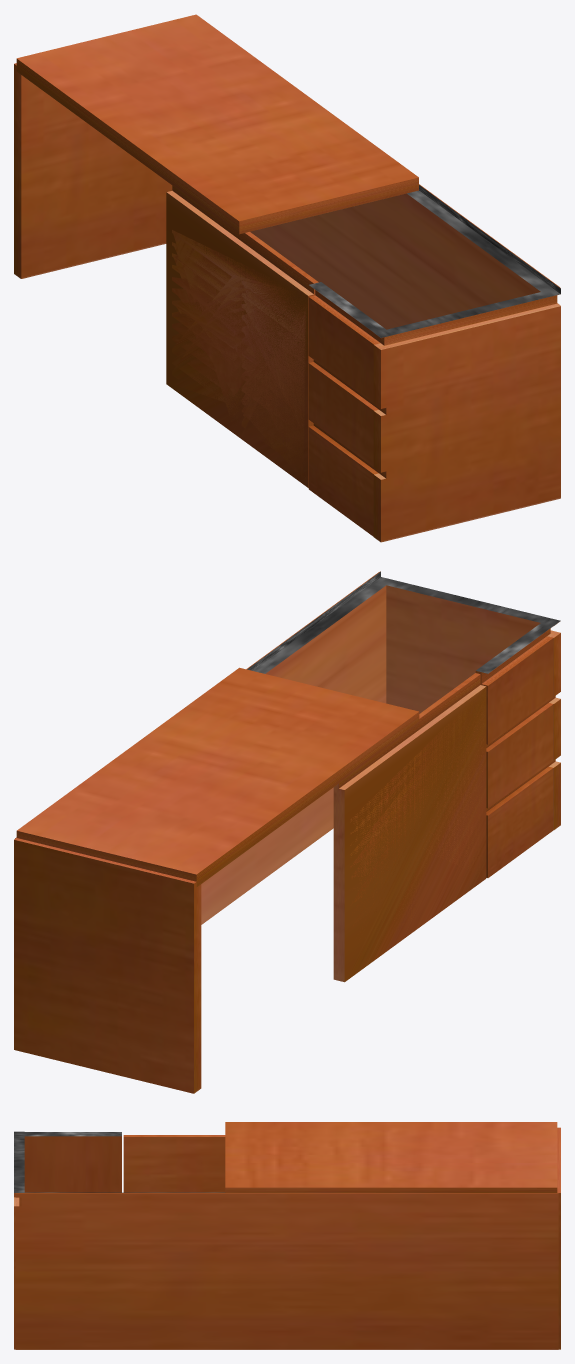
Rendered from EscritorioMadera.obj.
The picture shows the model from 3 angles, top to bottom: view 1: azimuth 30°, elevation 25°; view 2: azimuth 150°, elevation 25°; view 3: azimuth 270°, elevation 25°; orthographic projection. The views are drawn at different scales.
Visible parts, largest first — view 1: pCube9, pCube117, pCube129, pCube119, pCube1, pCube128; view 2: pCube9, pCube1, pCube129, pCube119, pCube128, pCube117; view 3: pCube119, pCube9, pCube128, pCube129, pCube117, pCube1.
Boxes of the visible parts, x1,y1,x2,y2 form: pCube9: [16, 14, 418, 234]; pCube117: [373, 284, 560, 542]; pCube129: [166, 185, 318, 487]; pCube119: [250, 184, 560, 329]; pCube1: [14, 63, 172, 278]; pCube128: [308, 282, 386, 536]; pCube9: [16, 667, 419, 886]; pCube1: [14, 838, 201, 1093]; pCube129: [333, 673, 486, 982]; pCube119: [15, 572, 390, 924]; pCube128: [475, 623, 553, 877]; pCube117: [374, 571, 560, 830]; pCube119: [15, 1188, 558, 1349]; pCube9: [225, 1122, 557, 1192]; pCube128: [24, 1132, 121, 1192]; pCube129: [123, 1135, 225, 1192]; pCube117: [14, 1131, 24, 1349]; pCube1: [557, 1127, 560, 1349].
Size of the model in its own units: 3.03 by 3.48 by 10.66.
